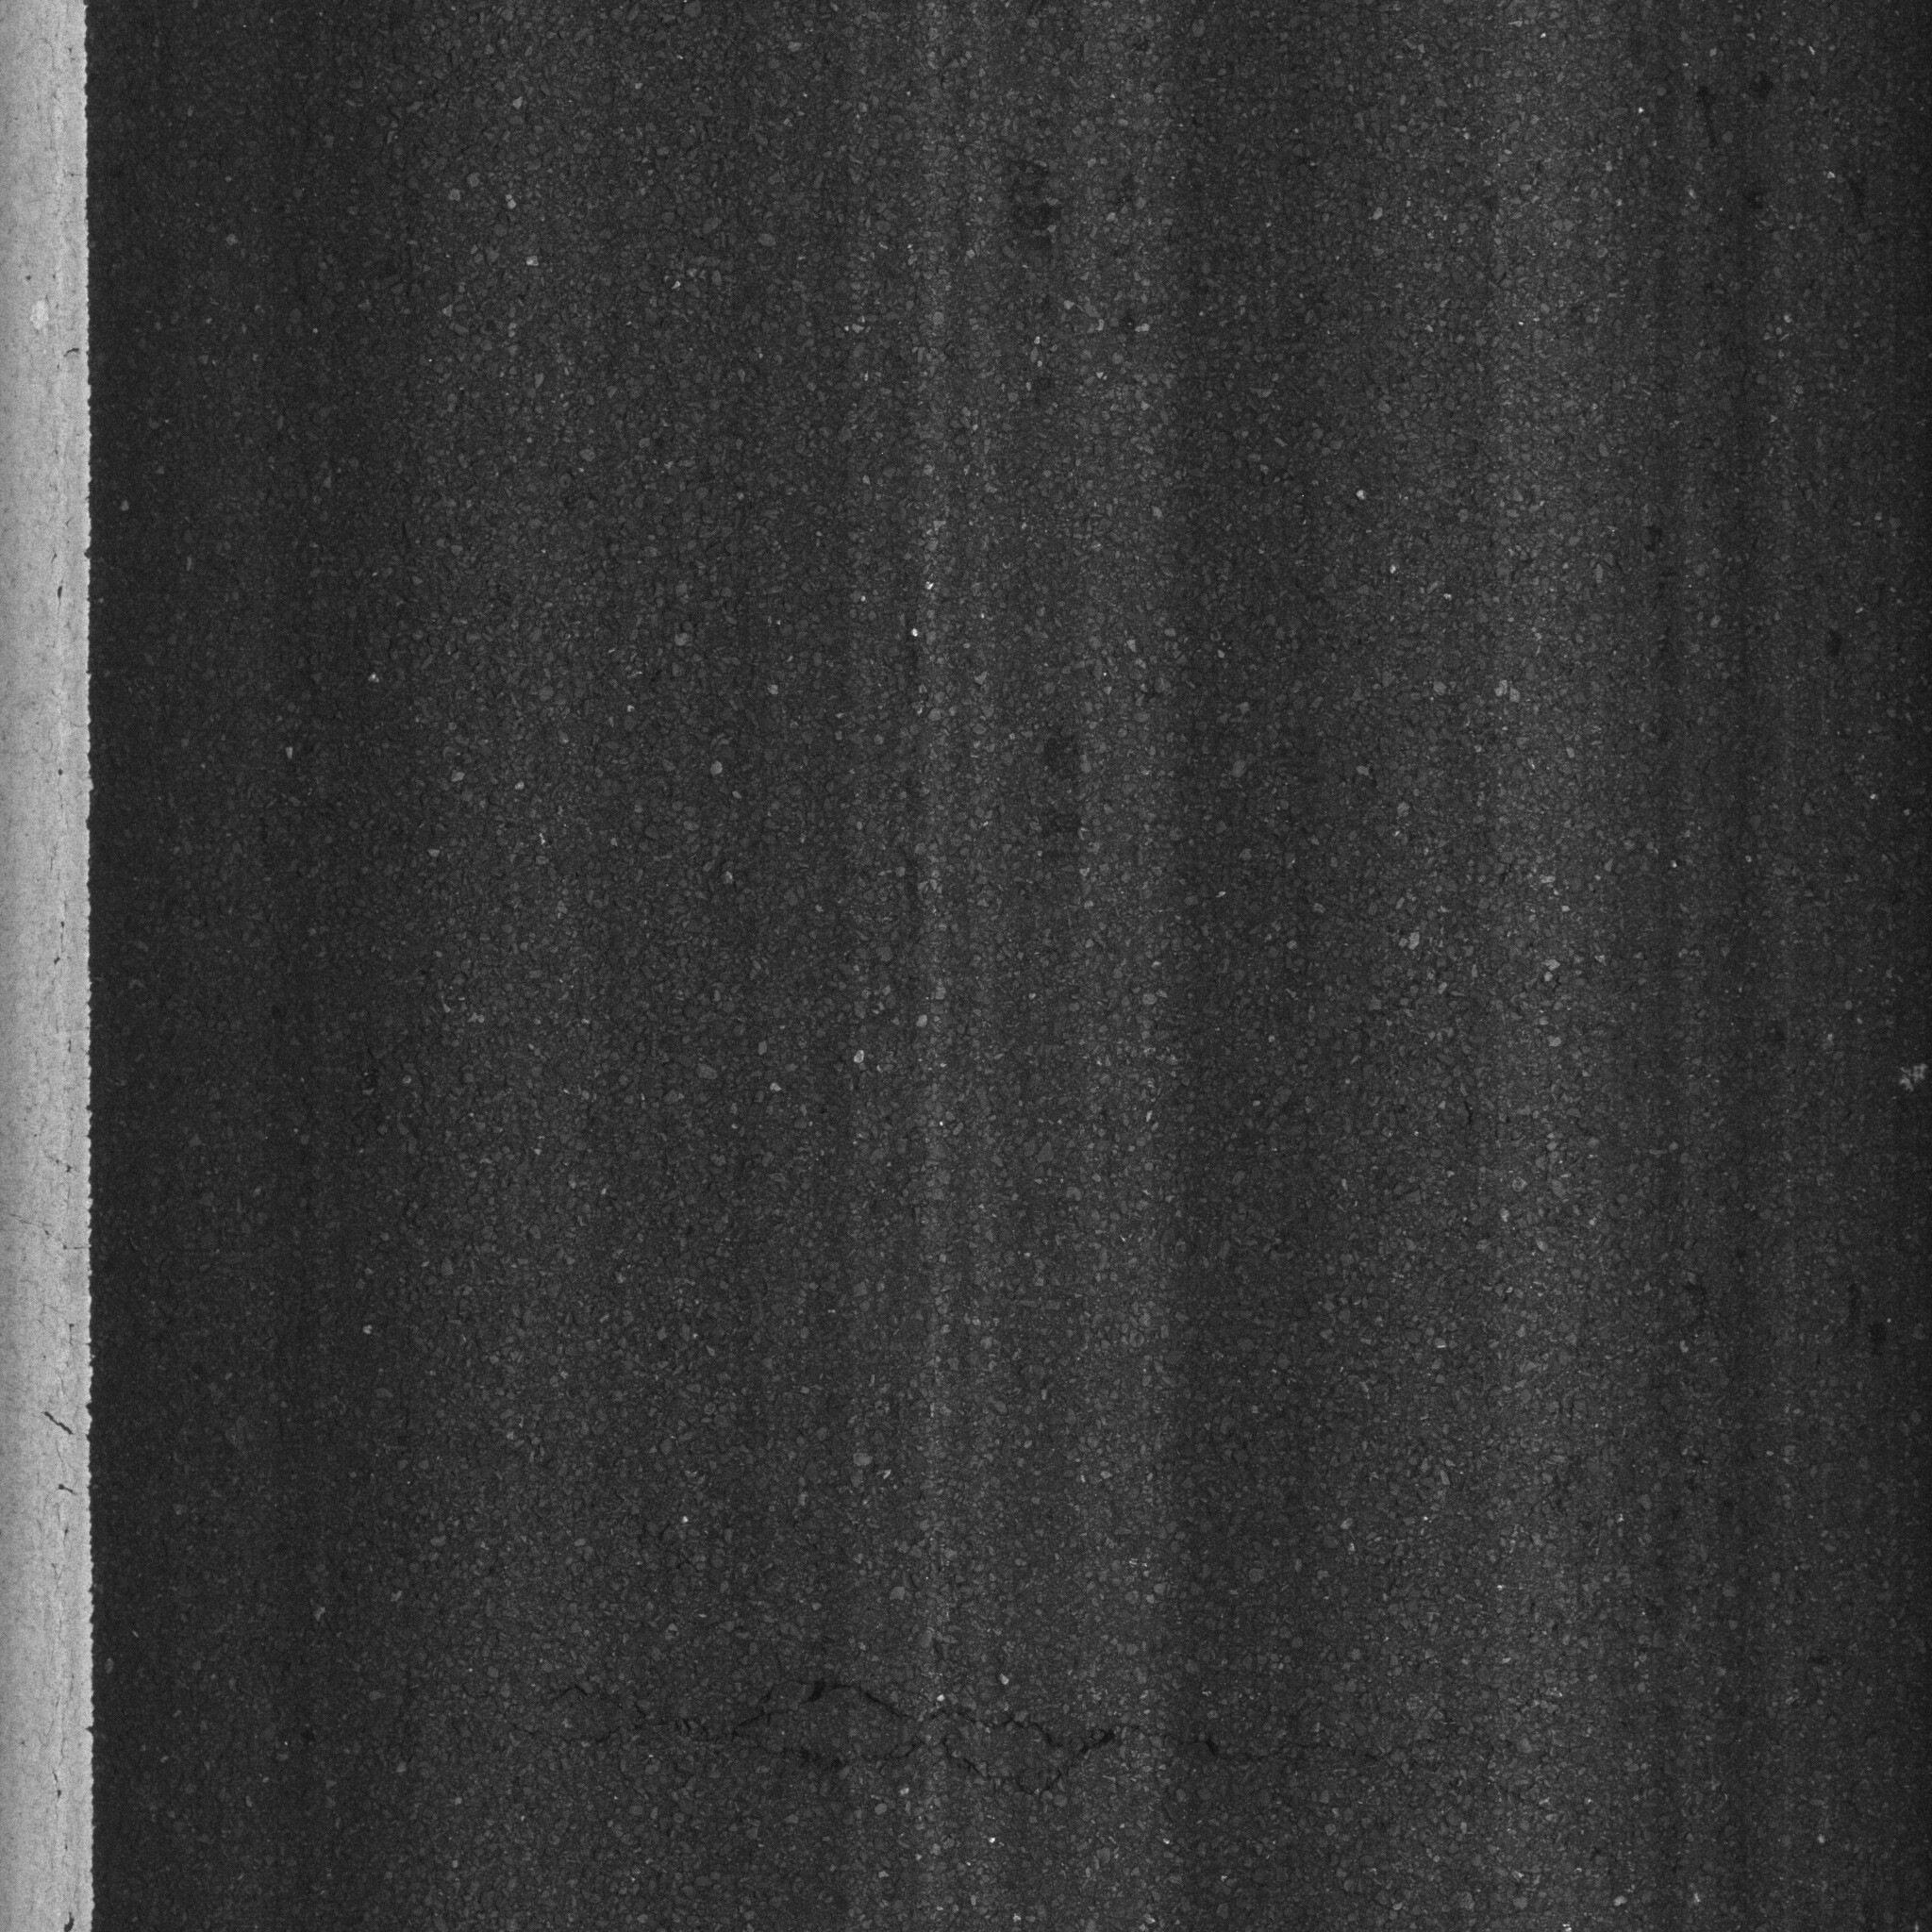transverse: (476, 1583, 1564, 1856)
